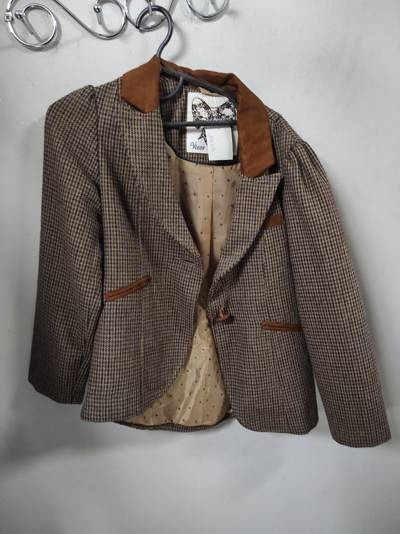Blazer: (18, 67, 389, 464)
